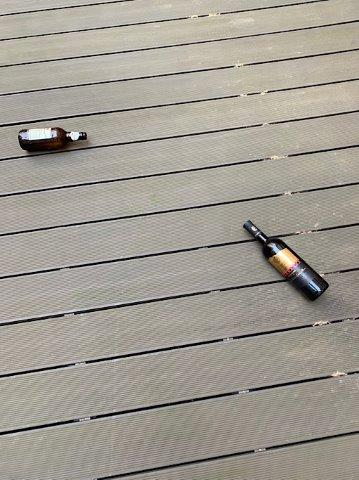botolkaca: (243, 222, 331, 301), (18, 128, 87, 149)
